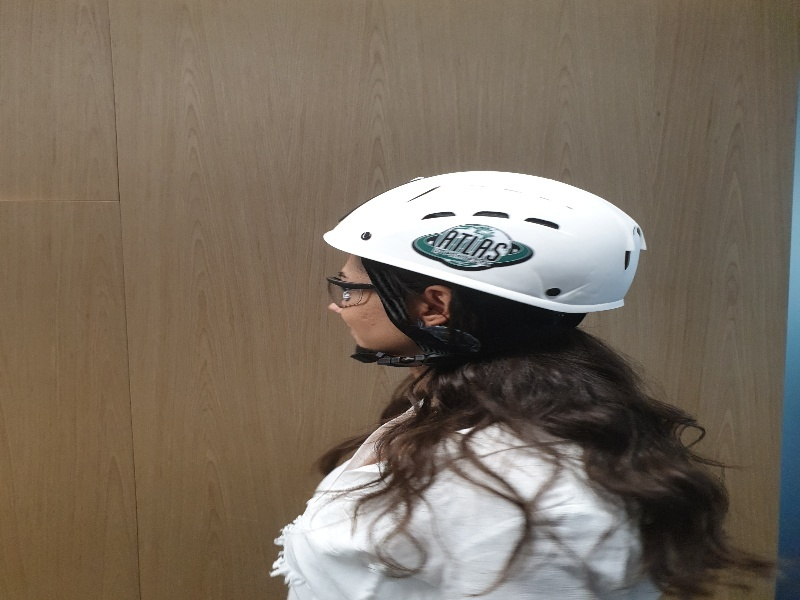baret: (324, 170, 643, 327)
